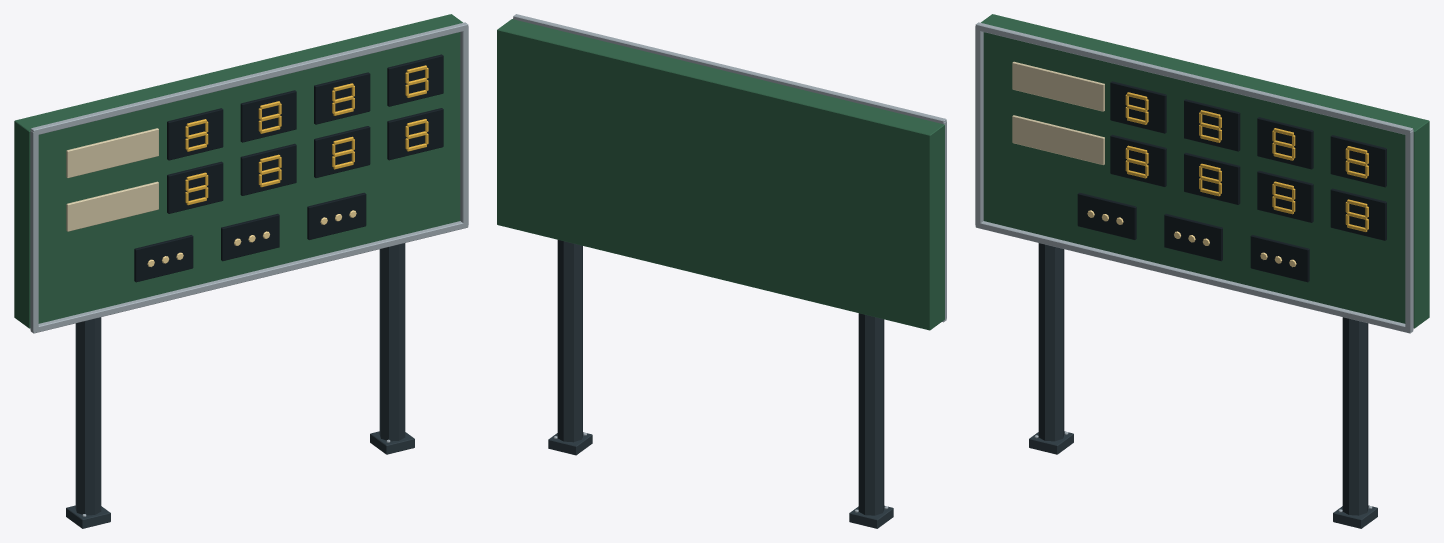
File: b09_baseball_scoreboard.glb
3 views of the same model, side by side, from view 1: azimuth 30°, elevation 25°; view 2: azimuth 150°, elevation 25°; view 3: azimuth 330°, elevation 25° (orthographic).
Visible parts, largest first — view 1: b09_baseball_scoreboard; view 2: b09_baseball_scoreboard; view 3: b09_baseball_scoreboard.
Boxes of the visible parts, x1,y1,x2,y2 form: b09_baseball_scoreboard: (14,14,468,528); b09_baseball_scoreboard: (497,14,946,528); b09_baseball_scoreboard: (975,14,1429,528).
Size of the model in its own units: 3.34 by 3.01 by 0.27.
